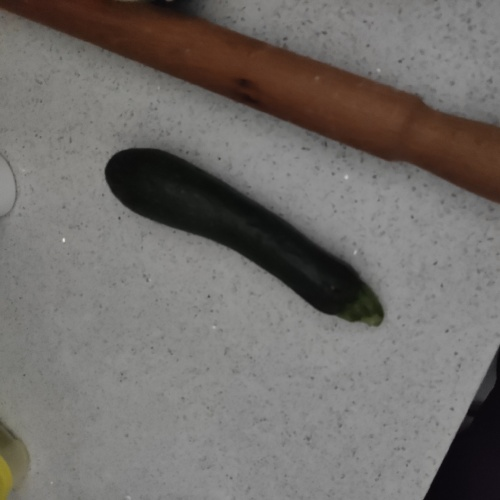zucchine: (111, 143, 394, 344)
